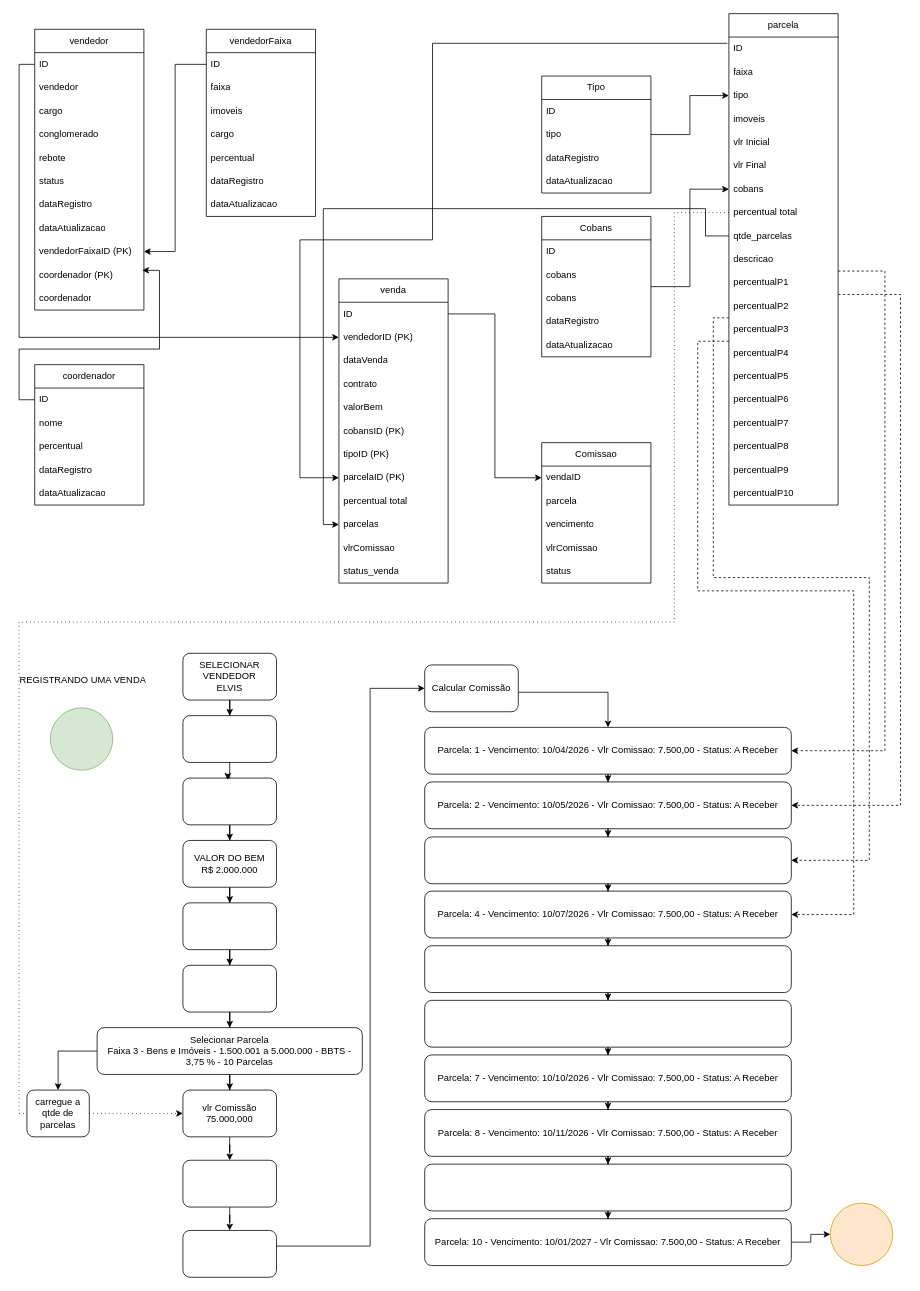
This 920x1291 diagram has some shape labels left out. The centre of each missing label's shape, as x and y in pixels:
CONTRATO 0000X: the point at 229,801
Data 1ª Parcela 10/04/2026: the point at 229,1253
Data Corte 19/03/2026: the point at 229,1183
DATA DA VENDA 24/02/2026: the point at 229,738
Parcela: 3 - Vencimento: 10/06/2026 - Vlr Comissao: 7.500,00 - Status: A Receber: the point at 607,860
Parcela: 5 - Vencimento: 10/08/2026 - Vlr Comissao: 7.500,00 - Status: A Receber: the point at 607,969
Parcela: 6 - Vencimento: 10/09/2026 - Vlr Comissao: 7.500,00 - Status: A Receber: the point at 607,1023
Parcela: 9 - Vencimento: 10/12/2026 - Vlr Comissao: 7.500,00 - Status: A Receber: the point at 607,1187
Selecionar Cobans BBTS: the point at 229,926
Selecionar Tipo Bens e Imóveis: the point at 229,988
